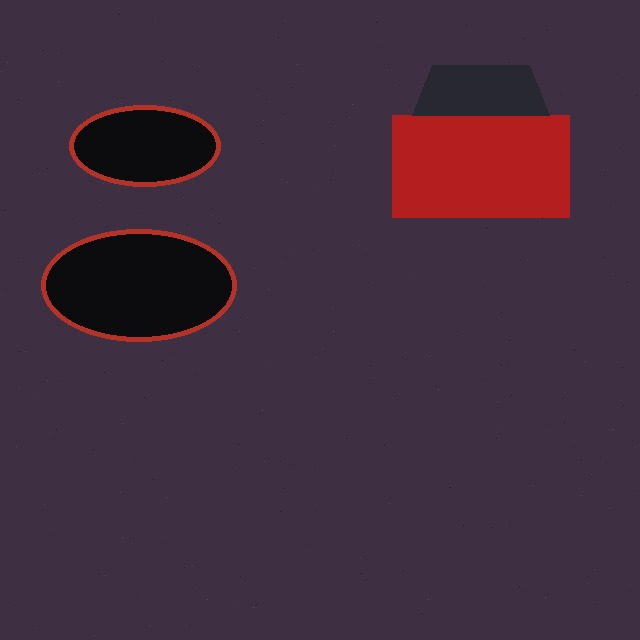open_manhole: (41, 229, 236, 341), (69, 105, 220, 186)
vehicle: (392, 65, 569, 217)
